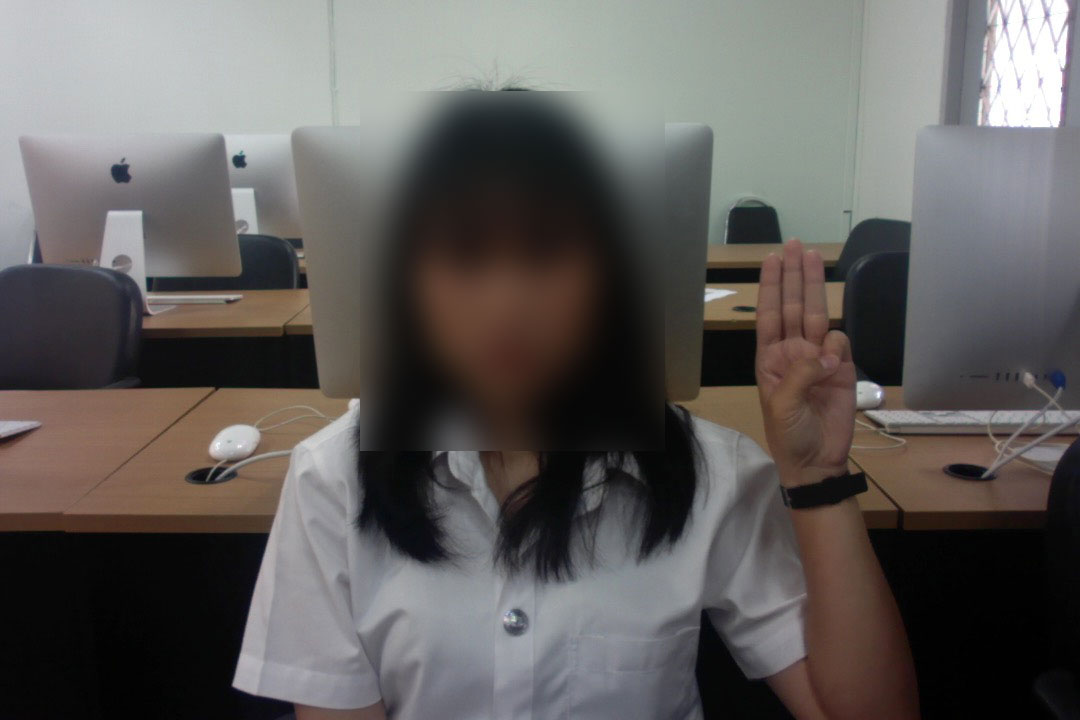wor: (746, 235, 866, 474)
